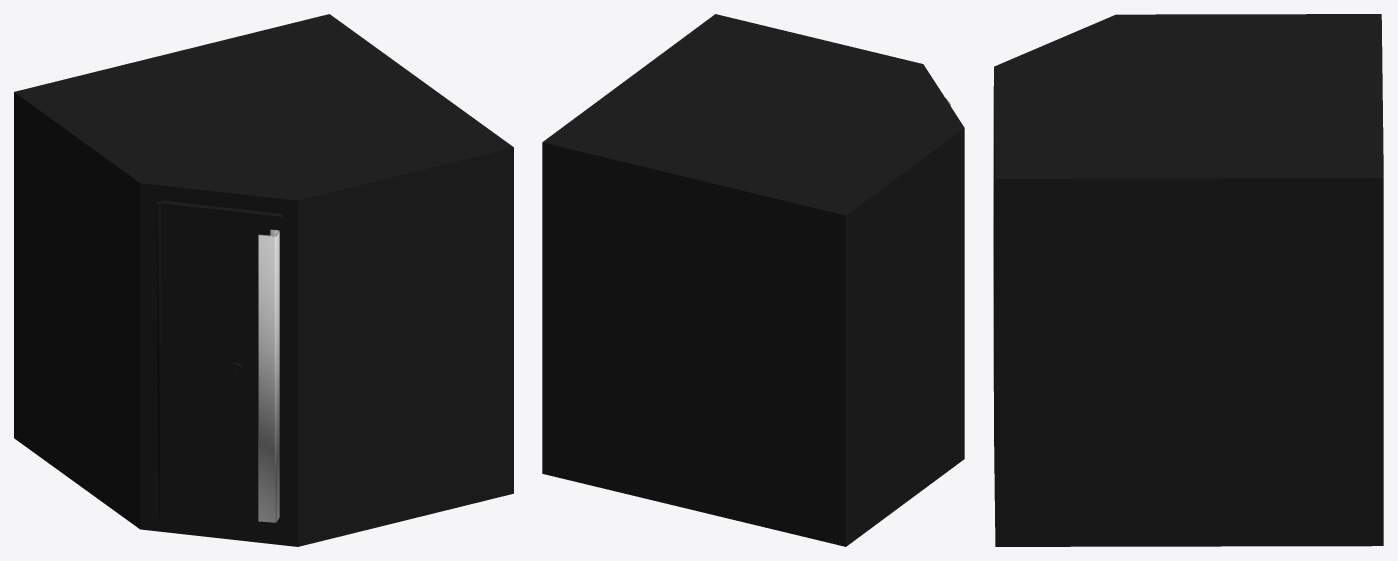
The model's file is cornerWallMountRight.glb.
The picture shows the model from 3 angles, left to right: view 1: azimuth 30°, elevation 25°; view 2: azimuth 150°, elevation 25°; view 3: azimuth 270°, elevation 25°; orthographic projection. The views are drawn at different scales.
Visible parts, largest first — view 1: shellFp, doors, handlesFp, hingeFp; view 2: shellFp; view 3: shellFp.
Boxes of the visible parts, <box> form: shellFp: <box>14,14,513,546</box>; doors: <box>160,200,283,530</box>; handlesFp: <box>258,229,279,522</box>; hingeFp: <box>156,202,160,517</box>; shellFp: <box>542,14,964,546</box>; shellFp: <box>994,14,1383,546</box>.
Size of the model in its own units: 0.5617 by 0.5842 by 0.562.
Materials: 3 (1 with a texture image).
